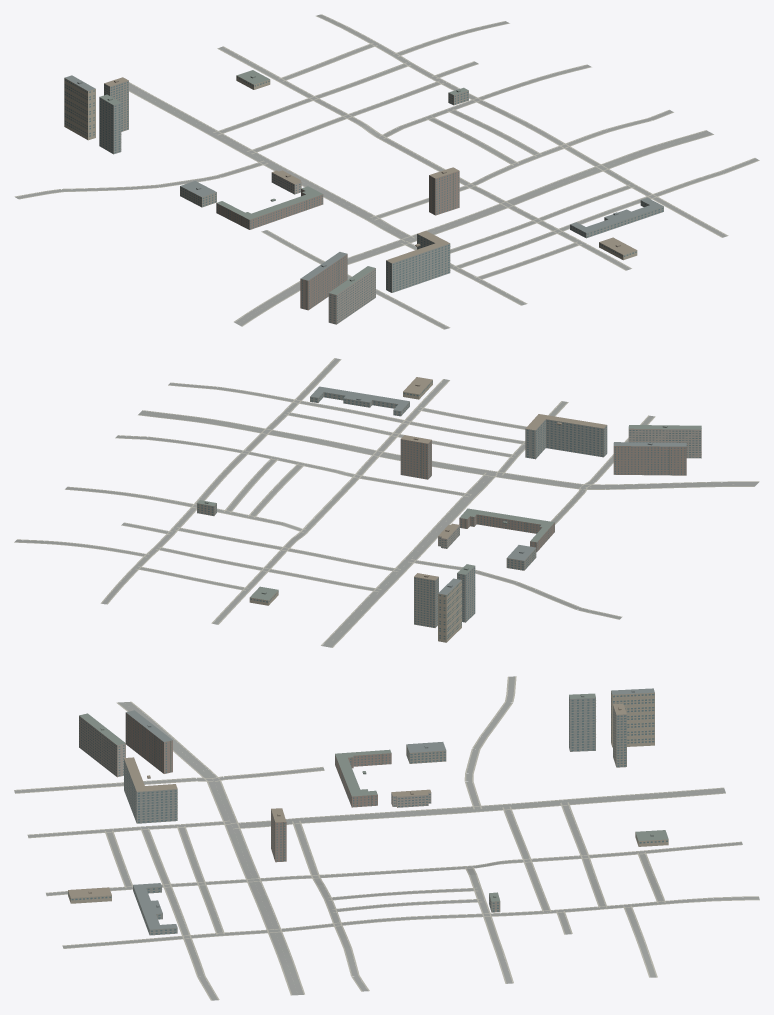
3 views of the same model, one above another, from view 1: azimuth 30°, elevation 25°; view 2: azimuth 150°, elevation 25°; view 3: azimuth 270°, elevation 25° (orthographic). The views are drawn at different scales.
Parts seen in each view (by area): view 1: context-osm-roads, context-osm-buildings, context-osm-sidewalks; view 2: context-osm-buildings, context-osm-roads, context-osm-sidewalks; view 3: context-osm-roads, context-osm-buildings, context-osm-sidewalks.
Boxes of the visible parts, x1=… form: context-osm-roads: x1=15, y1=14, x2=758, y2=329; context-osm-buildings: x1=64, y1=70, x2=663, y2=324; context-osm-sidewalks: x1=14, y1=14, x2=759, y2=329; context-osm-buildings: x1=197, y1=377, x2=701, y2=642; context-osm-roads: x1=15, y1=358, x2=758, y2=647; context-osm-sidewalks: x1=14, y1=358, x2=759, y2=647; context-osm-roads: x1=14, y1=676, x2=759, y2=1000; context-osm-buildings: x1=68, y1=688, x2=668, y2=935; context-osm-sidewalks: x1=14, y1=676, x2=759, y2=1000.
Bounding box in the file's own units: 767 × 68.49 × 763.
